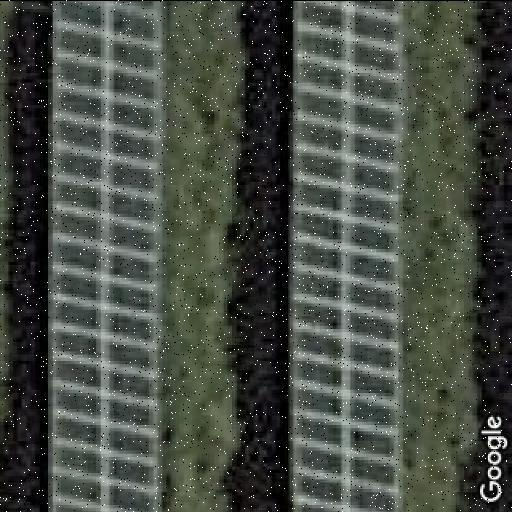solar-panel: (48, 0, 165, 512), (291, 0, 405, 512)
